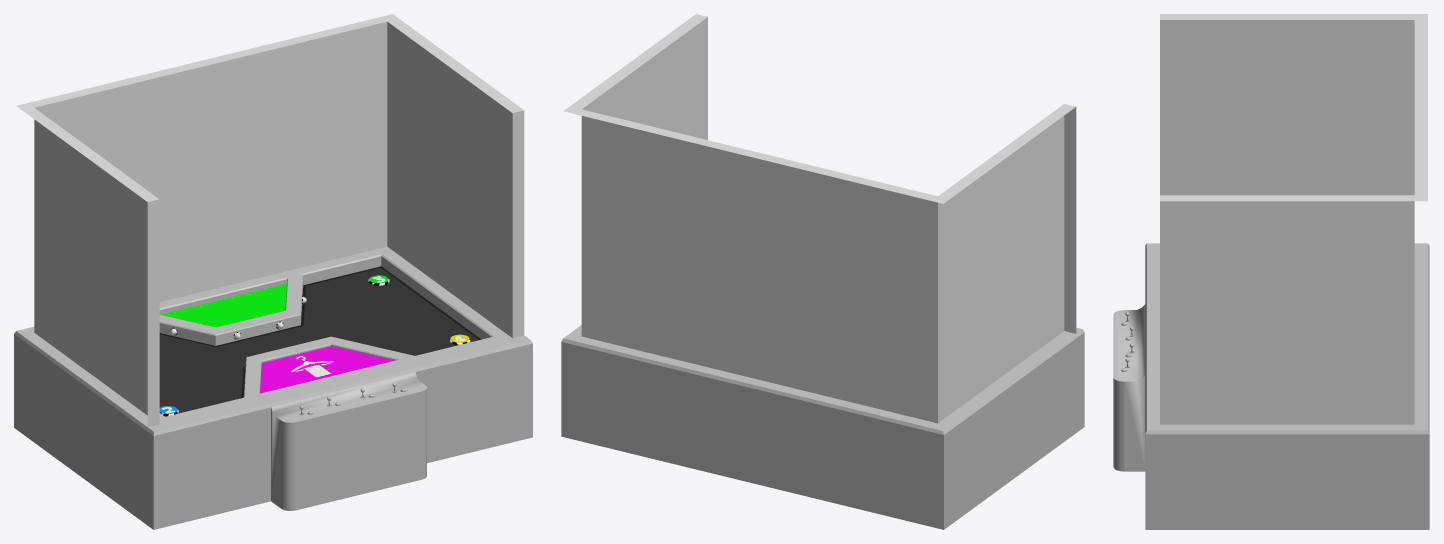
Rendered from arenaPregame 1.fbx.
The picture shows the model from 3 angles, left to right: view 1: azimuth 30°, elevation 25°; view 2: azimuth 150°, elevation 25°; view 3: azimuth 270°, elevation 25°; orthographic projection.
Visible parts, largest first — view 1: chasisGlass, chasis, console, ground, dropzoneCustom, dropzoneReady; view 2: chasisGlass, chasis; view 3: chasisGlass, chasis, console.
Part boxes in pixels (<box>): chasisGlass: <box>16,14,524,426</box>; chasis: <box>14,246,532,529</box>; console: <box>271,372,426,510</box>; ground: <box>159,266,481,416</box>; dropzoneCustom: <box>260,346,393,393</box>; dropzoneReady: <box>160,283,286,327</box>; chasisGlass: <box>563,14,1076,423</box>; chasis: <box>561,325,1084,529</box>; chasisGlass: <box>1160,14,1427,424</box>; chasis: <box>1145,243,1429,529</box>; console: <box>1113,304,1145,471</box>.
Bounding box in the file's own units: 512 × 416 × 363.
